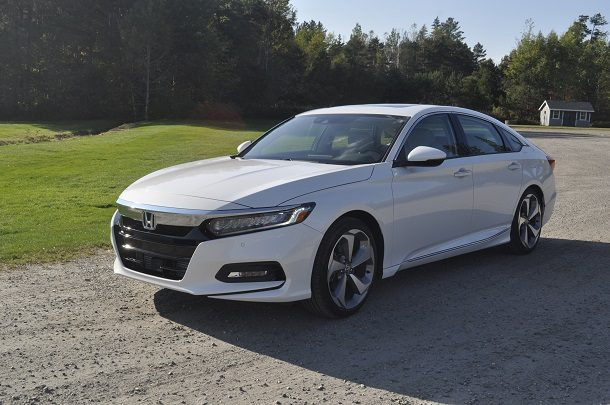accord: (105, 93, 566, 323)
